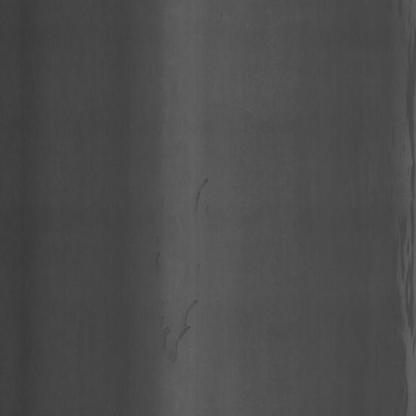water_spot: (146, 289, 198, 376)
